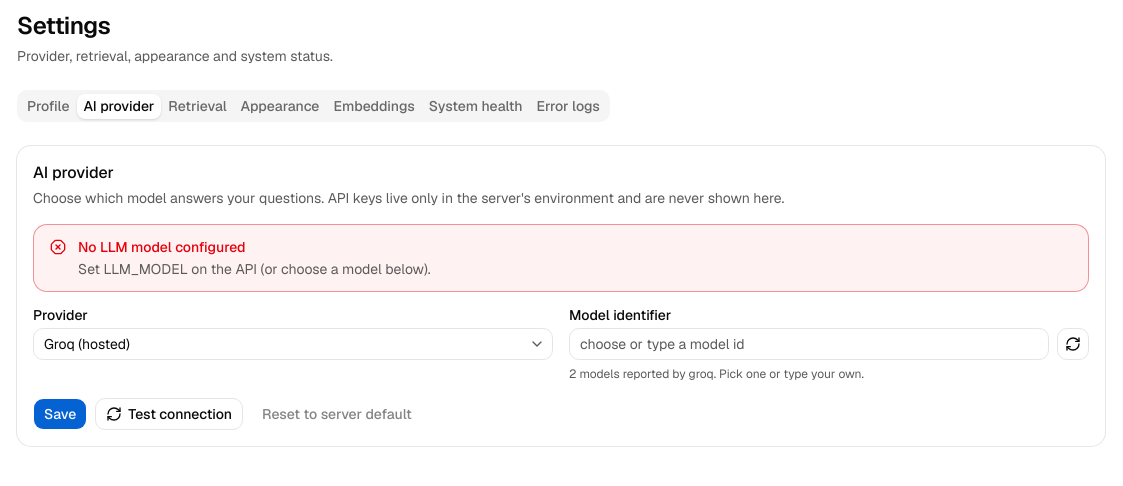
it: Settings → AI provider › offers the provider's models as a combobox, with free-text fallback
This screenshot has width=1123, height=486.
Expected: the text with test id "models-hint" shows "2 models reported by groq", [569,366,864,382]
In the field with test id "model-input": (809, 344) [569,328,1049,360], type "llama-3.3-70b-versatile"
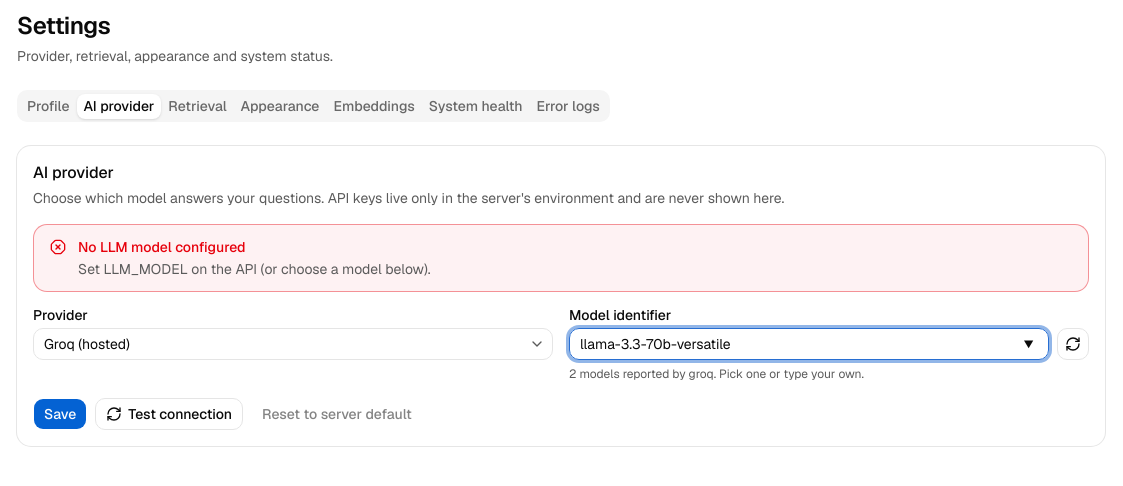
Replace the text in the field with test id "model-input" with "my-custom-model": (809, 344) [569,328,1049,360]
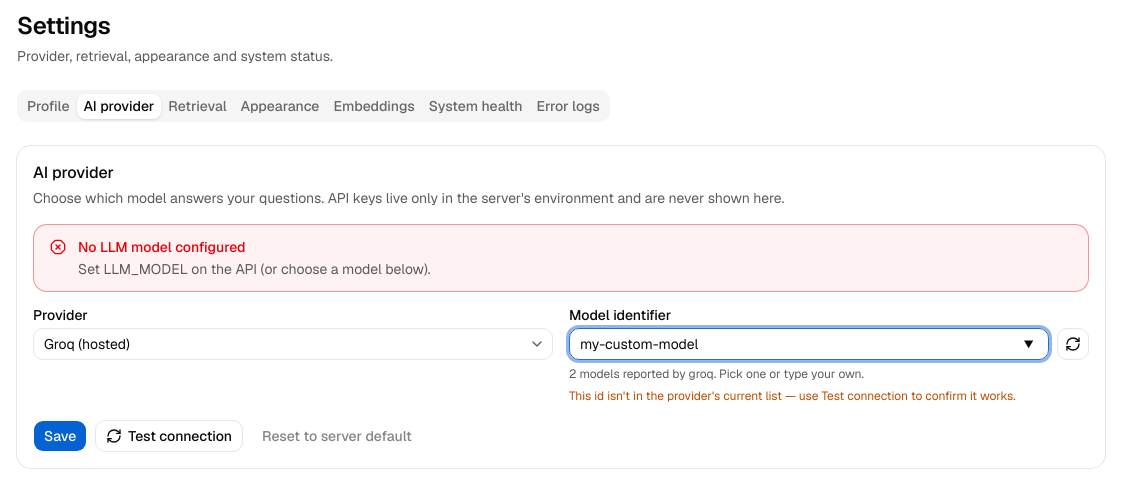
Expected: the text with test id "model-unknown" shows "isn't in the provider's current list", [569,388,1016,404]
